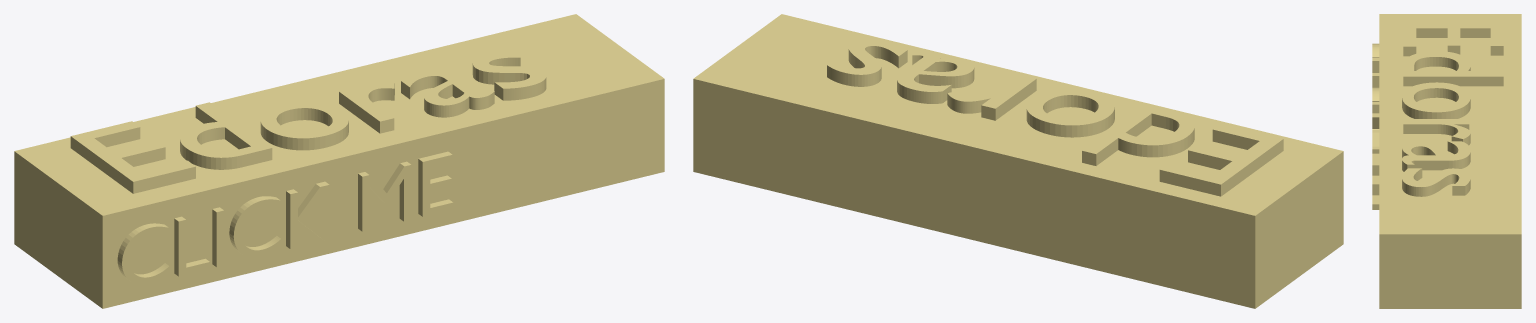
The model's file is edor.glb.
3 renders of one model, left to right at view 1: azimuth 30°, elevation 25°; view 2: azimuth 150°, elevation 25°; view 3: azimuth 270°, elevation 25°, orthographic. The views are drawn at different scales.
Visible parts, largest first — view 1: 文本.006; view 2: 文本.006; view 3: 文本.006.
Boxes of the visible parts, x1,y1,x2,y2 form: 文本.006: (14,14,664,308); 文本.006: (693,14,1343,308); 文本.006: (1372,14,1521,308).
Bounding box in the file's own units: 3.54 × 0.6331 × 1.01.
